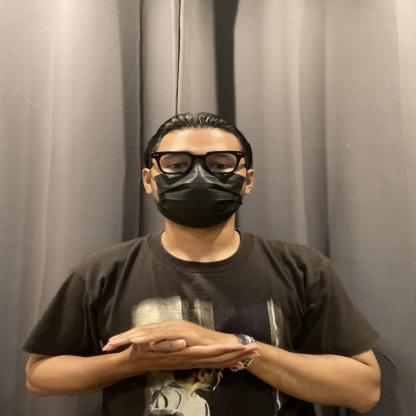Love: (73, 304, 303, 400)
